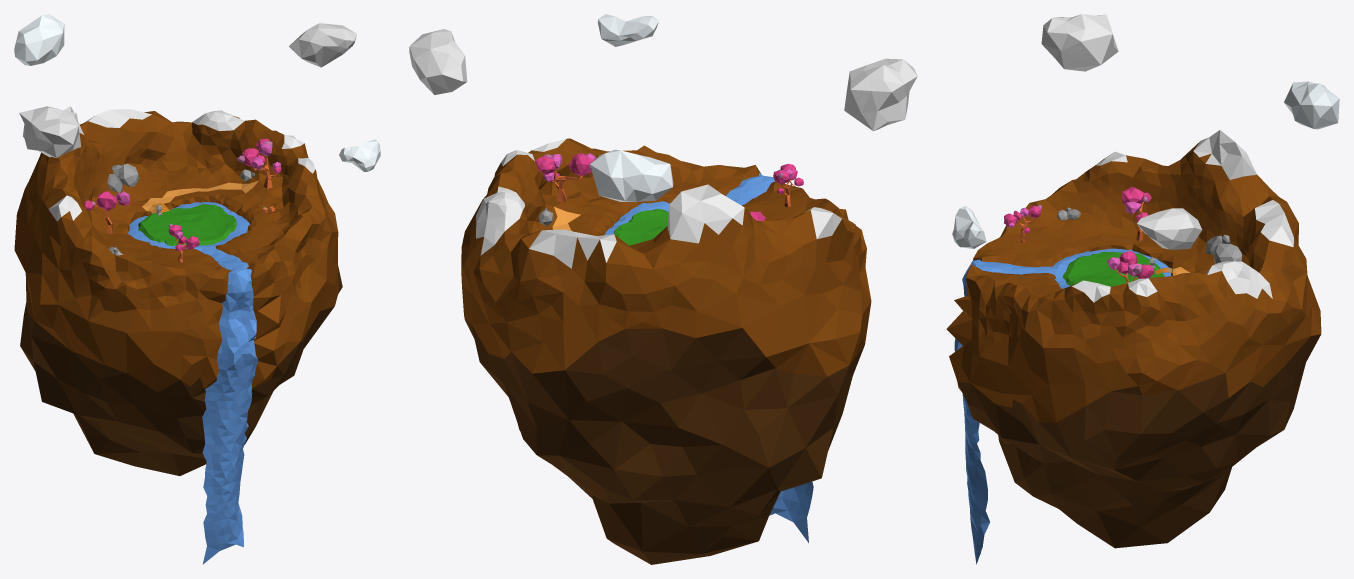
3 views of the same model, side by side, from view 1: azimuth 30°, elevation 25°; view 2: azimuth 150°, elevation 25°; view 3: azimuth 270°, elevation 25° (orthographic). The views are drawn at different scales.
Parts seen in each view (by area): view 1: Isla, Agua, Icosphere.001, Icosphere, Icosphere.002, Icosphere.003, Roca; view 2: Isla, Icosphere.001, Icosphere, Icosphere.002, Agua, Icosphere.003; view 3: Isla, Agua, Icosphere.001, Icosphere, Icosphere.002, Icosphere.003, Roca.
Boxes of the visible parts, x1=… form: Isla: x1=14, y1=106, x2=342, y2=475; Agua: x1=128, y1=202, x2=258, y2=564; Icosphere.001: x1=19, y1=106, x2=81, y2=158; Icosphere: x1=14, y1=14, x2=64, y2=65; Icosphere.002: x1=289, y1=23, x2=356, y2=67; Icosphere.003: x1=339, y1=139, x2=380, y2=171; Roca: x1=107, y1=163, x2=139, y2=192; Isla: x1=461, y1=138, x2=871, y2=564; Icosphere.001: x1=844, y1=58, x2=917, y2=131; Icosphere: x1=590, y1=149, x2=673, y2=201; Icosphere.002: x1=409, y1=29, x2=467, y2=94; Agua: x1=604, y1=173, x2=813, y2=542; Icosphere.003: x1=597, y1=14, x2=658, y2=46; Isla: x1=946, y1=130, x2=1321, y2=548; Agua: x1=954, y1=248, x2=1171, y2=564; Icosphere.001: x1=1041, y1=14, x2=1118, y2=71; Icosphere: x1=1284, y1=81, x2=1339, y2=129; Icosphere.002: x1=1137, y1=208, x2=1201, y2=249; Icosphere.003: x1=952, y1=206, x2=986, y2=248; Roca: x1=1205, y1=234, x2=1241, y2=263.
Bounding box in the file's own units: 14.06 × 16.65 × 12.25.
